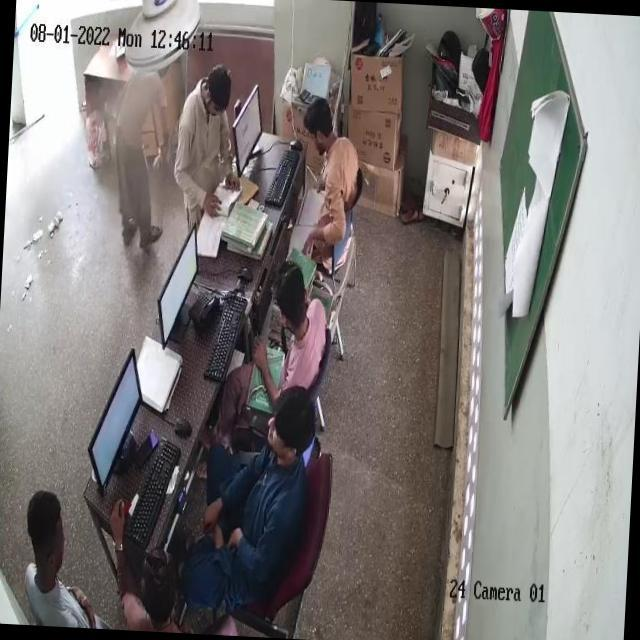person: (181, 380, 319, 632), (238, 254, 326, 409), (106, 63, 174, 254), (14, 489, 94, 628), (296, 92, 358, 258), (180, 58, 242, 220), (113, 522, 197, 633)
